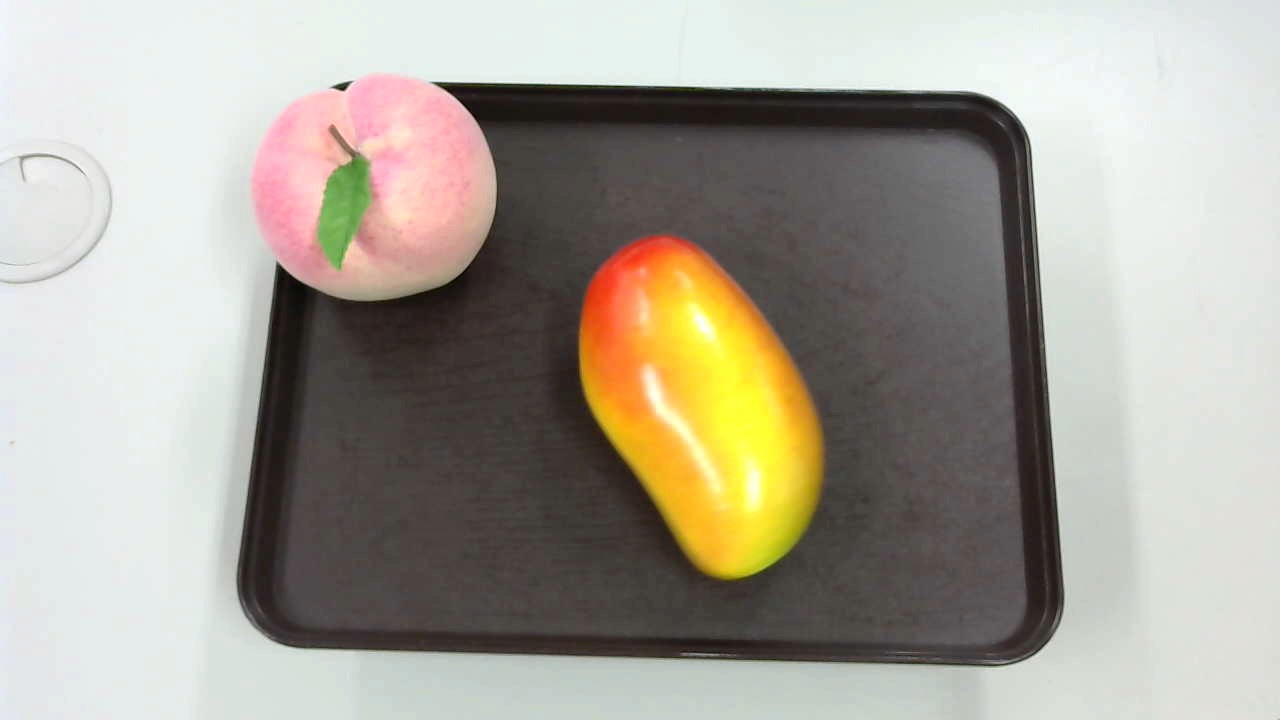peach: (244, 74, 502, 307)
red mango: (580, 234, 824, 588)
